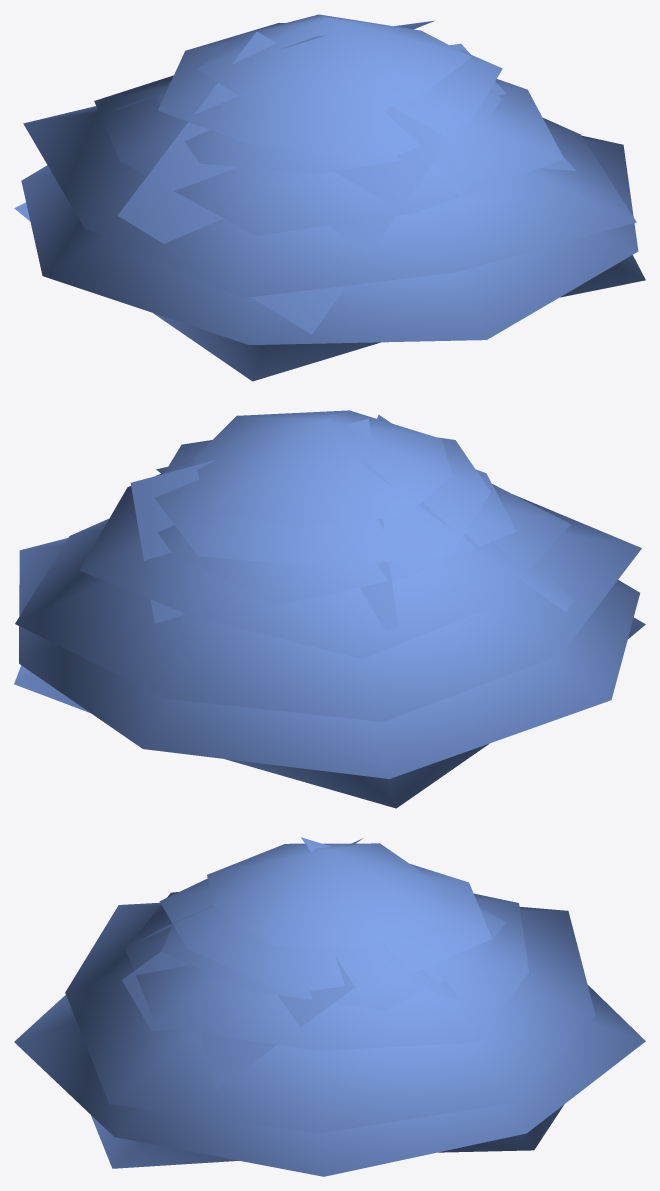
File: Bosje2SW.fbx
3 views of the same model, one above another, from view 1: azimuth 30°, elevation 25°; view 2: azimuth 150°, elevation 25°; view 3: azimuth 270°, elevation 25° (orthographic). The views are drawn at different scales.
Parts seen in each view (by area): view 1: Bosje2_LOD0; view 2: Bosje2_LOD0; view 3: Bosje2_LOD0.
Boxes of the visible parts, x1,y1,x2,y2 form: Bosje2_LOD0: (14,14,645,381); Bosje2_LOD0: (14,410,645,808); Bosje2_LOD0: (14,837,645,1176).
Size of what is drawn, in the model's own units: 3.31 by 1.29 by 3.27.
